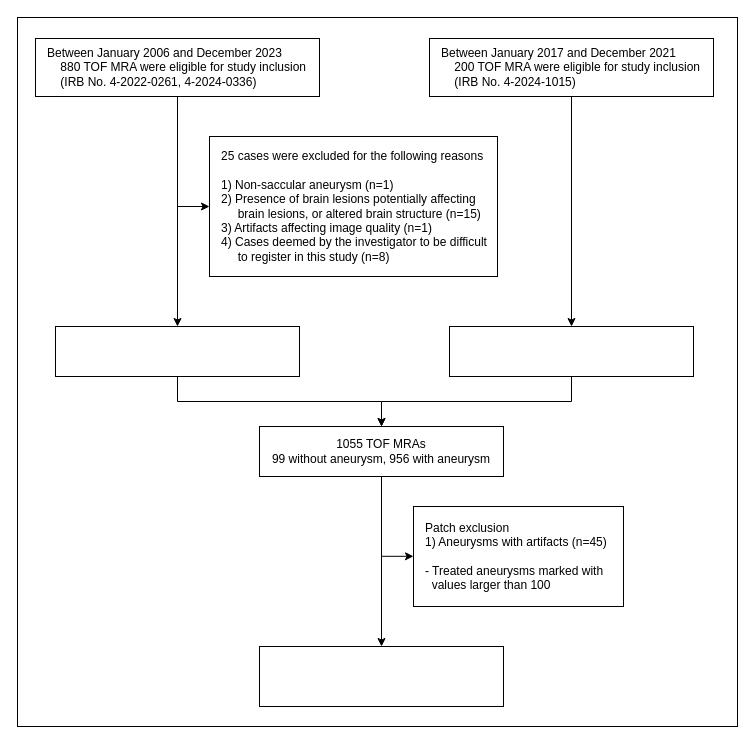
The diagram is 755 pixels wide and 744 high, and some of its shapes have lost their labels. Here are the shapes that lost their labels. From the top down, the centre of each, then its label:
At (x=177, y=351): "855 TOF MRAs 79 without aneurysm, 776 with aneurysm".
At (x=571, y=351): "200 TOF MRAs 20 without aneurysm, 180 with aneurysm".
At (x=381, y=676): "1055 TOF MRAs 99 without aneurysm, 956 with aneurysm 31605 patches".
